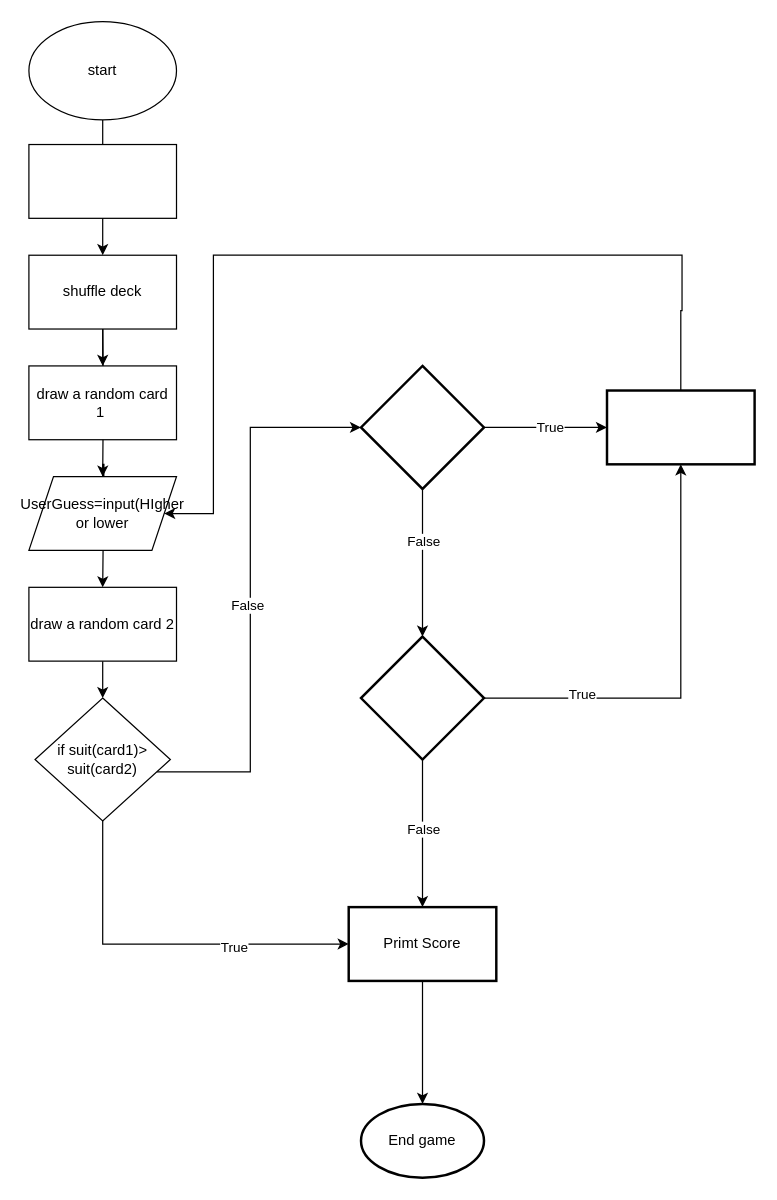
Image size: 777x1200. Some labels were removed from this diagram. Here are the shapes that lost their labels. From the top down, the box of each, then its label:
(28, 143, 177, 218): Score = 0
(359, 364, 485, 490): if suit(card1)< suit(card2)
(605, 389, 755, 465): Score+=1
(359, 635, 485, 760): if rank(card1)< rank(card2)
